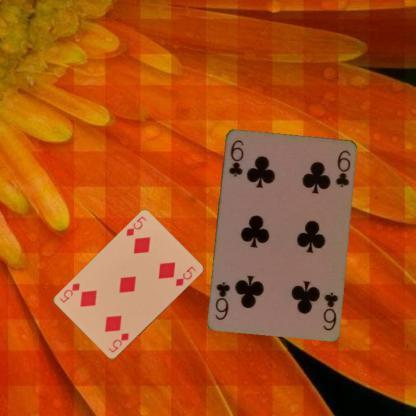5d: (106, 330, 130, 354), (124, 214, 147, 238)
6c: (320, 289, 339, 332), (226, 137, 244, 178)
